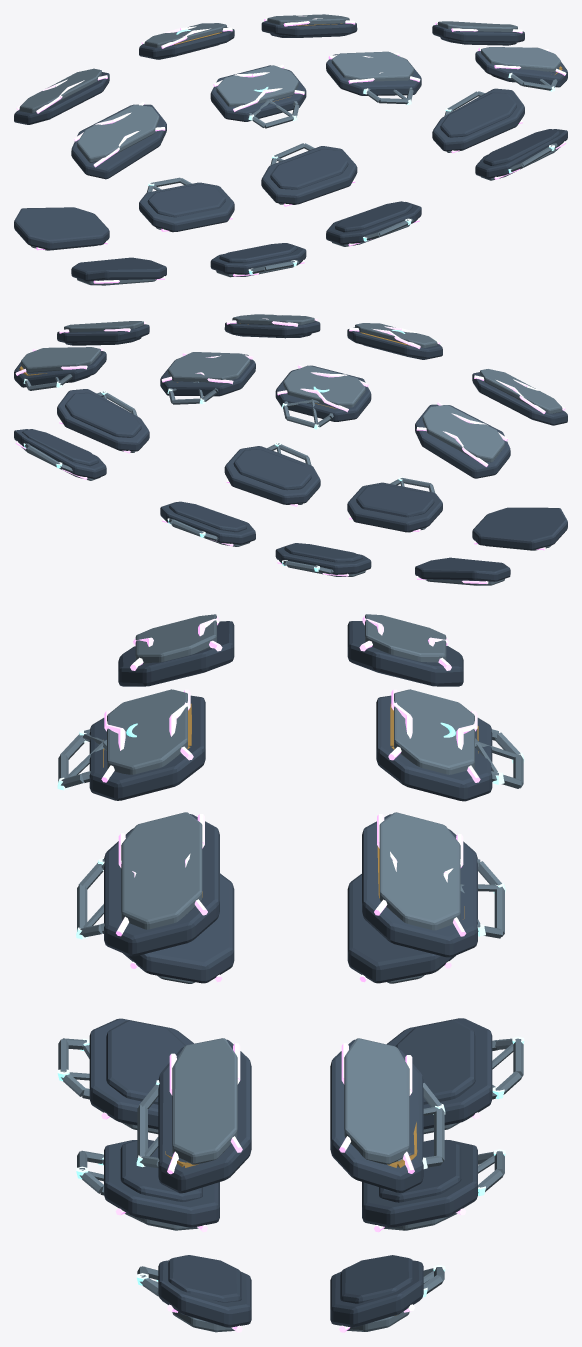
Rendered from plating.glb.
3 renders of one model, top to bottom at view 1: azimuth 30°, elevation 25°; view 2: azimuth 150°, elevation 25°; view 3: azimuth 270°, elevation 25°, orthographic. The views are drawn at different scales.
Parts seen in each view (by area): view 1: p_heavy Fitting gunmetal, p_heavy Brushed fitting edges, p_aegis Fitting gunmetal, p_light Brushed fitting edges, p_heavy p_heavy emitter, p_light p_light emitter; view 2: p_heavy Fitting gunmetal, p_heavy Brushed fitting edges, p_aegis Fitting gunmetal, p_light Brushed fitting edges, p_heavy p_heavy emitter; view 3: p_heavy Fitting gunmetal, p_heavy Brushed fitting edges, p_aegis Fitting gunmetal, p_light Brushed fitting edges, p_heavy p_heavy emitter, p_light p_light emitter.
Boxes of the visible parts, left/top/right/bottom form: p_heavy Fitting gunmetal: left=14, top=20, right=567, bottom=281; p_heavy Brushed fitting edges: left=19, top=14, right=560, bottom=285; p_aegis Fitting gunmetal: left=147, top=33, right=559, bottom=262; p_light Brushed fitting edges: left=146, top=73, right=557, bottom=273; p_heavy p_heavy emitter: left=16, top=15, right=566, bottom=283; p_light p_light emitter: left=148, top=73, right=554, bottom=274; p_heavy Fitting gunmetal: left=14, top=320, right=567, bottom=581; p_heavy Brushed fitting edges: left=21, top=314, right=562, bottom=585; p_aegis Fitting gunmetal: left=22, top=333, right=434, bottom=562; p_light Brushed fitting edges: left=24, top=374, right=434, bottom=574; p_heavy p_heavy emitter: left=15, top=315, right=565, bottom=583; p_heavy Fitting gunmetal: left=89, top=621, right=492, bottom=1327; p_heavy Brushed fitting edges: left=107, top=614, right=474, bottom=1332; p_aegis Fitting gunmetal: left=106, top=1020, right=475, bottom=1303; p_light Brushed fitting edges: left=58, top=729, right=523, bottom=1296; p_heavy p_heavy emitter: left=101, top=615, right=480, bottom=1332; p_light p_light emitter: left=57, top=730, right=524, bottom=1297.
Size of the model in its own units: 37.2 by 14.15 by 15.3.
